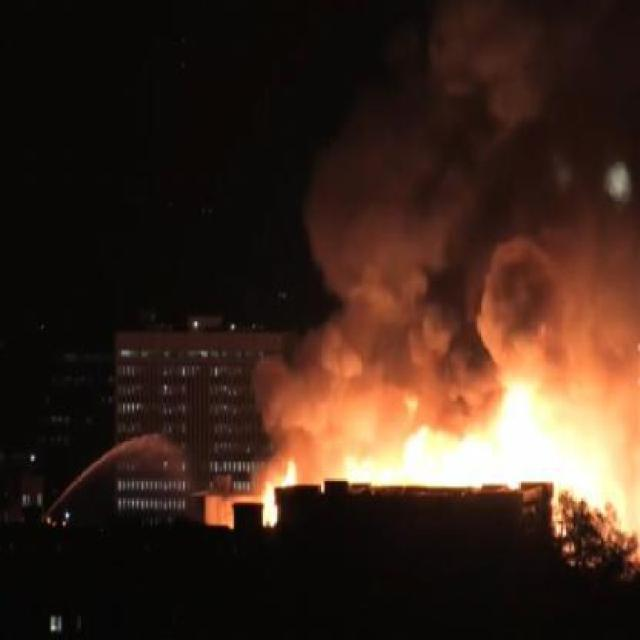Fire: (504, 364, 626, 506), (408, 431, 504, 486), (348, 452, 414, 486), (262, 484, 280, 528), (283, 459, 303, 484)
Smoke: (443, 3, 632, 306), (356, 98, 482, 366), (412, 323, 494, 422), (487, 298, 638, 349)
